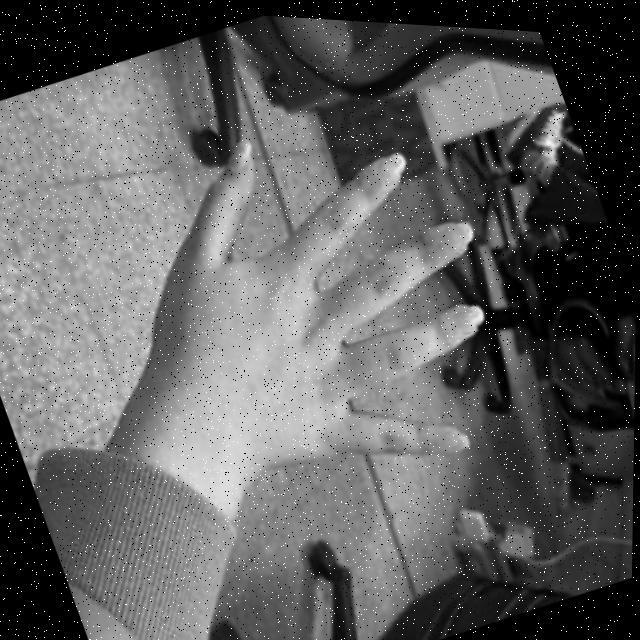no-gloves: (107, 56, 553, 538)
